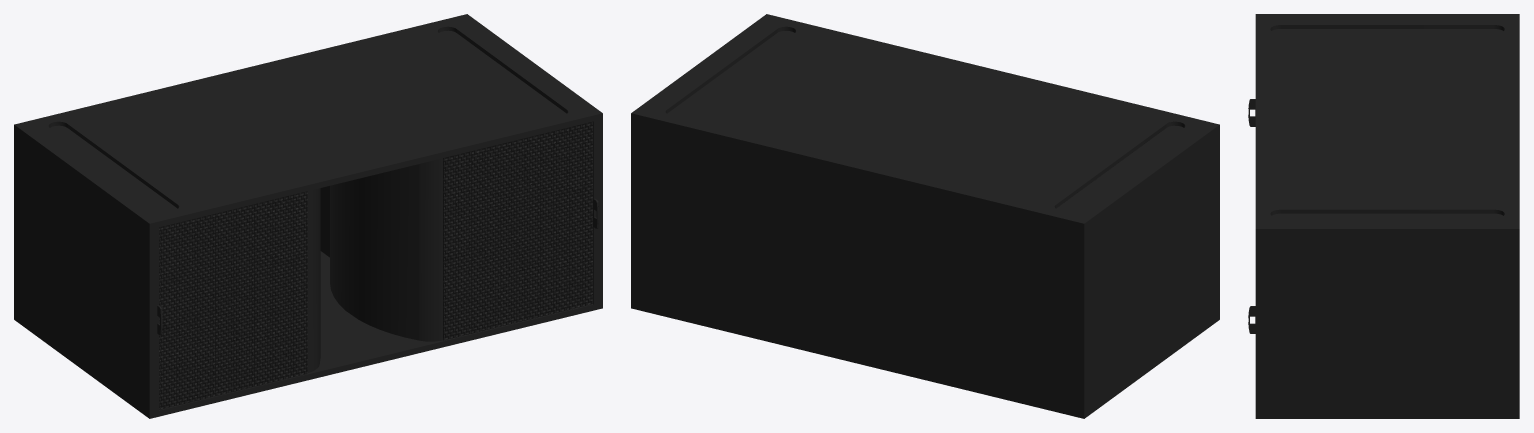
File: subwoofer.glb
The picture shows the model from 3 angles, left to right: view 1: azimuth 30°, elevation 25°; view 2: azimuth 150°, elevation 25°; view 3: azimuth 270°, elevation 25°; orthographic projection. The views are drawn at different scales.
Parts seen in each view (by area): view 1: body; view 2: body; view 3: body.
Part boxes in pixels (x1,y1,x2,y2): body: (14, 14, 602, 418); body: (631, 14, 1219, 418); body: (1248, 14, 1519, 418).
Size of the model in its own units: 1.35 by 0.5635 by 0.7193.
Materials: 2 (1 with a texture image).
